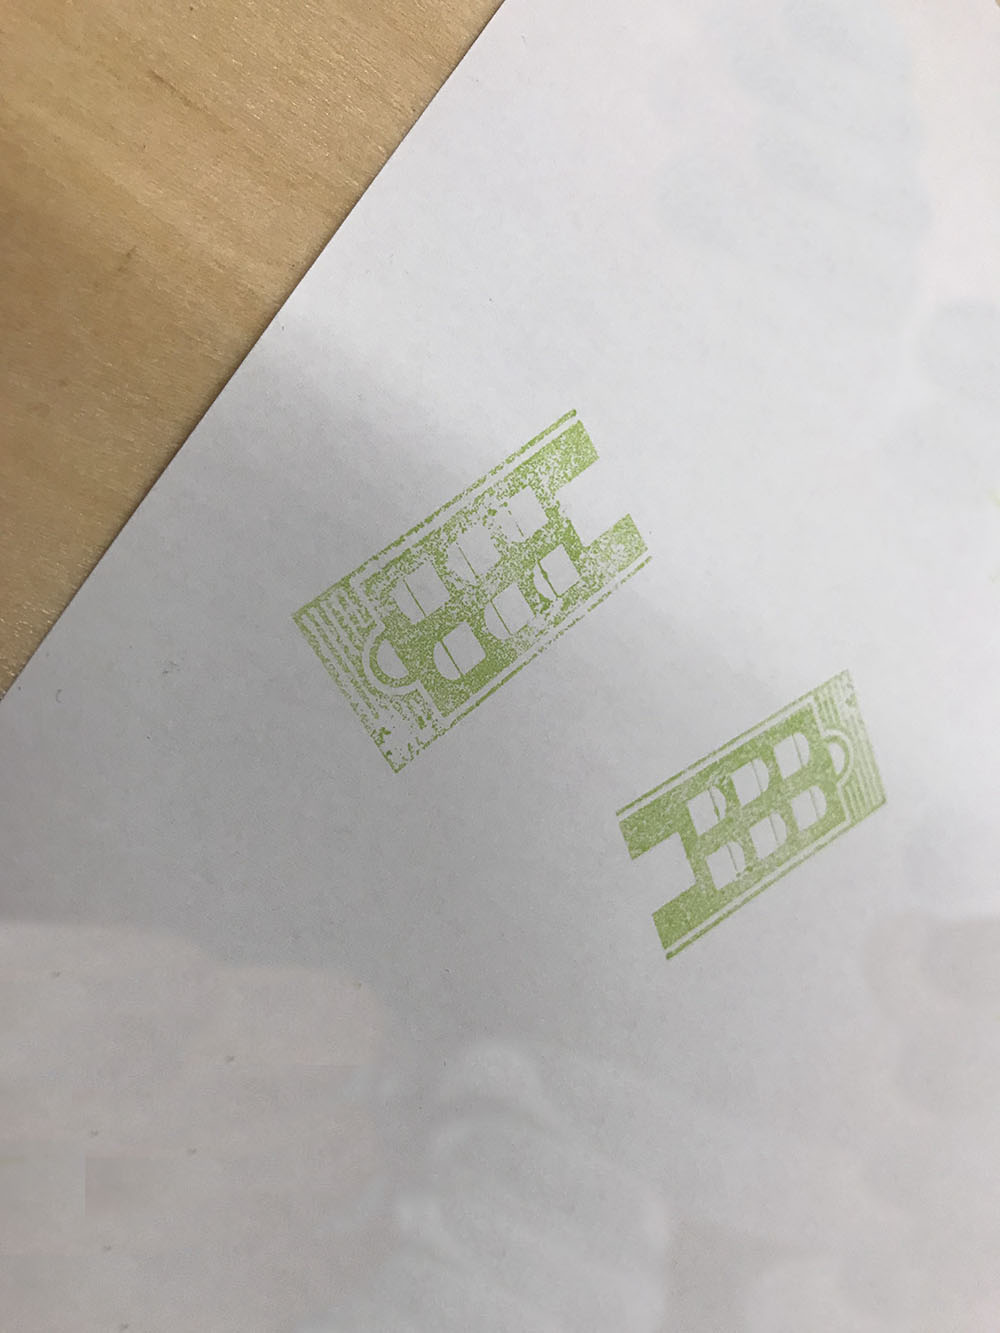build: (271, 367, 678, 803), (614, 653, 909, 988)
